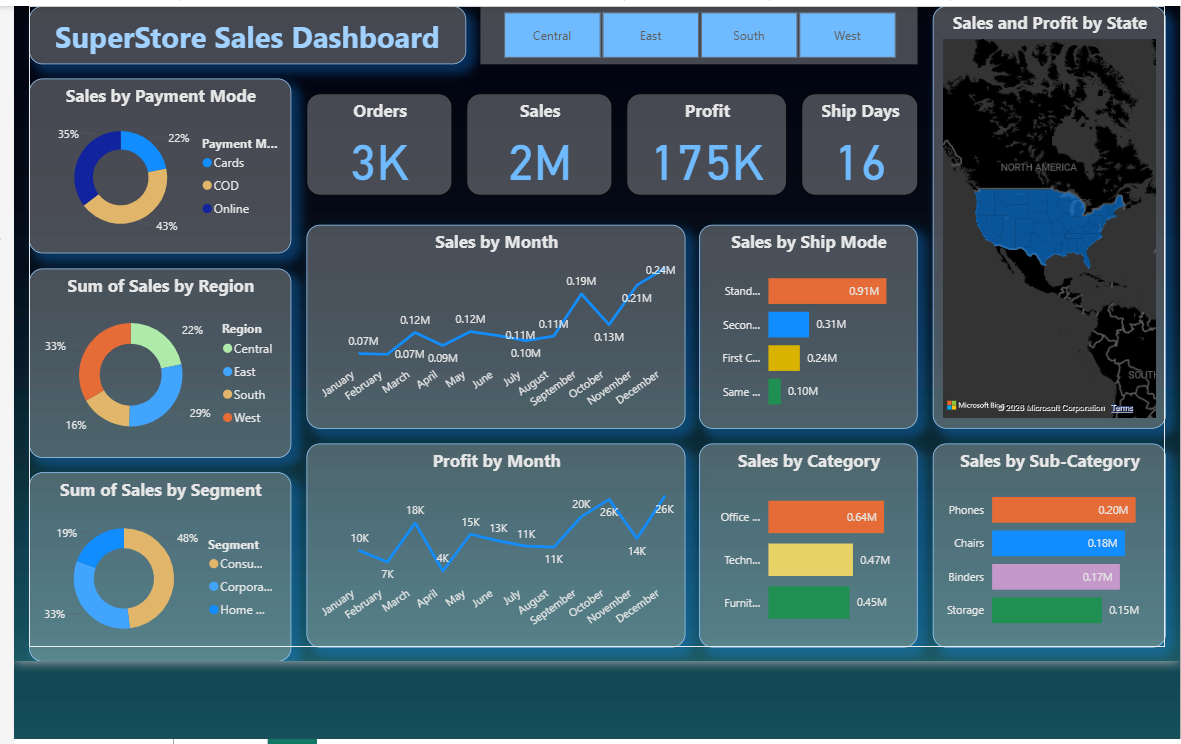

The dashboard page shown, as its layout file describes it:
{"tool":"powerbi","page":{"name":"Page 1","canvas":[1280,720],"ordinal":0},"visuals":[{"type":"textbox","box":[16,0,480,64],"z":0,"group":"g1"},{"type":"donutChart","fields":{"Y":["Sum(Sheet1.Sales)"],"Series":["Sheet1.Segment"]},"box":[16,512,288,208],"z":0},{"type":"group","id":"g1","title":"Group 1","box":[16,0,1248,704],"z":1000},{"type":"slicer","fields":{"Values":["Sheet1.Region"]},"box":[512,0,480,64],"z":1000,"group":"g1"},{"type":"donutChart","title":"Sales by Payment Mode","fields":{"Series":["Sheet1.Payment Mode"],"Y":["Sum(Sheet1.Sales)"]},"box":[16,80,288,192],"z":2000,"group":"g1"},{"type":"donutChart","fields":{"Y":["Sum(Sheet1.Sales)"],"Series":["Sheet1.Region"]},"box":[16,288,288,208],"z":3000,"group":"g1"},{"type":"barChart","title":"Sales by Category","fields":{"Category":["Sheet1.Category"],"Y":["Sum(Sheet1.Sales)"]},"box":[752,480,240,224],"z":5000,"group":"g1"},{"type":"barChart","title":"Sales by Sub-Category","fields":{"Category":["Sheet1.Sub-Category"],"Y":["Sum(Sheet1.Sales)"]},"box":[1008,480,256,224],"z":6000,"group":"g1"},{"type":"card","title":"Orders","fields":{"Values":["Count(Sheet1.Order ID)"]},"box":[320,96,160,112],"z":7000,"group":"g1"},{"type":"card","title":"Sales","fields":{"Values":["Sum(Sheet1.Sales)"]},"box":[496,96,160,112],"z":8000,"group":"g1"},{"type":"card","title":"Profit","fields":{"Values":["Sum(Sheet1.Profit)"]},"box":[672,96,176,112],"z":9000,"group":"g1"},{"type":"card","title":"Ship Days","fields":{"Values":["Median(Sheet1.Ship Date.Variation.Date Hierarchy.Day)"]},"box":[864,96,128,112],"z":10000,"group":"g1"},{"type":"lineChart","title":"Profit by Month","fields":{"Y":["Sum(Sheet1.Profit)"],"Category":["Sheet1.Order Date.Variation.Date Hierarchy.Month"]},"box":[320,480,416,224],"z":11000,"group":"g1"},{"type":"barChart","title":"Sales by Ship Mode","fields":{"Y":["Sum(Sheet1.Sales)"],"Category":["Sheet1.Ship Mode"]},"box":[752,240,240,224],"z":12000,"group":"g1"},{"type":"lineChart","title":"Sales by Month","fields":{"Y":["Sum(Sheet1.Sales)"],"Category":["Sheet1.Order Date.Variation.Date Hierarchy.Month"]},"box":[320,240,416,224],"z":13000,"group":"g1"},{"type":"filledMap","title":"Sales and Profit by State","fields":{"Category":["Sheet1.State"]},"box":[1008,0,256,464],"z":14000,"group":"g1"}]}

Visuals, with their boxes in screenshot pixels (x1, y1, x2, y2):
textbox: <region>27, 3, 464, 61</region>
donutChart - Sum(Sheet1.Sales) x Sheet1.Segment: <region>27, 469, 289, 658</region>
"Group 1" group: <region>27, 3, 1162, 644</region>
slicer - Sheet1.Region: <region>478, 3, 915, 61</region>
"Sales by Payment Mode" donutChart: <region>27, 76, 289, 251</region>
donutChart - Sum(Sheet1.Sales) x Sheet1.Region: <region>27, 265, 289, 454</region>
"Sales by Category" barChart: <region>697, 440, 915, 644</region>
"Sales by Sub-Category" barChart: <region>929, 440, 1162, 644</region>
"Orders" card: <region>303, 90, 449, 192</region>
"Sales" card: <region>464, 90, 609, 192</region>
"Profit" card: <region>624, 90, 784, 192</region>
"Ship Days" card: <region>798, 90, 915, 192</region>
"Profit by Month" lineChart: <region>303, 440, 682, 644</region>
"Sales by Ship Mode" barChart: <region>697, 221, 915, 425</region>
"Sales by Month" lineChart: <region>303, 221, 682, 425</region>
"Sales and Profit by State" filledMap: <region>929, 3, 1162, 425</region>
